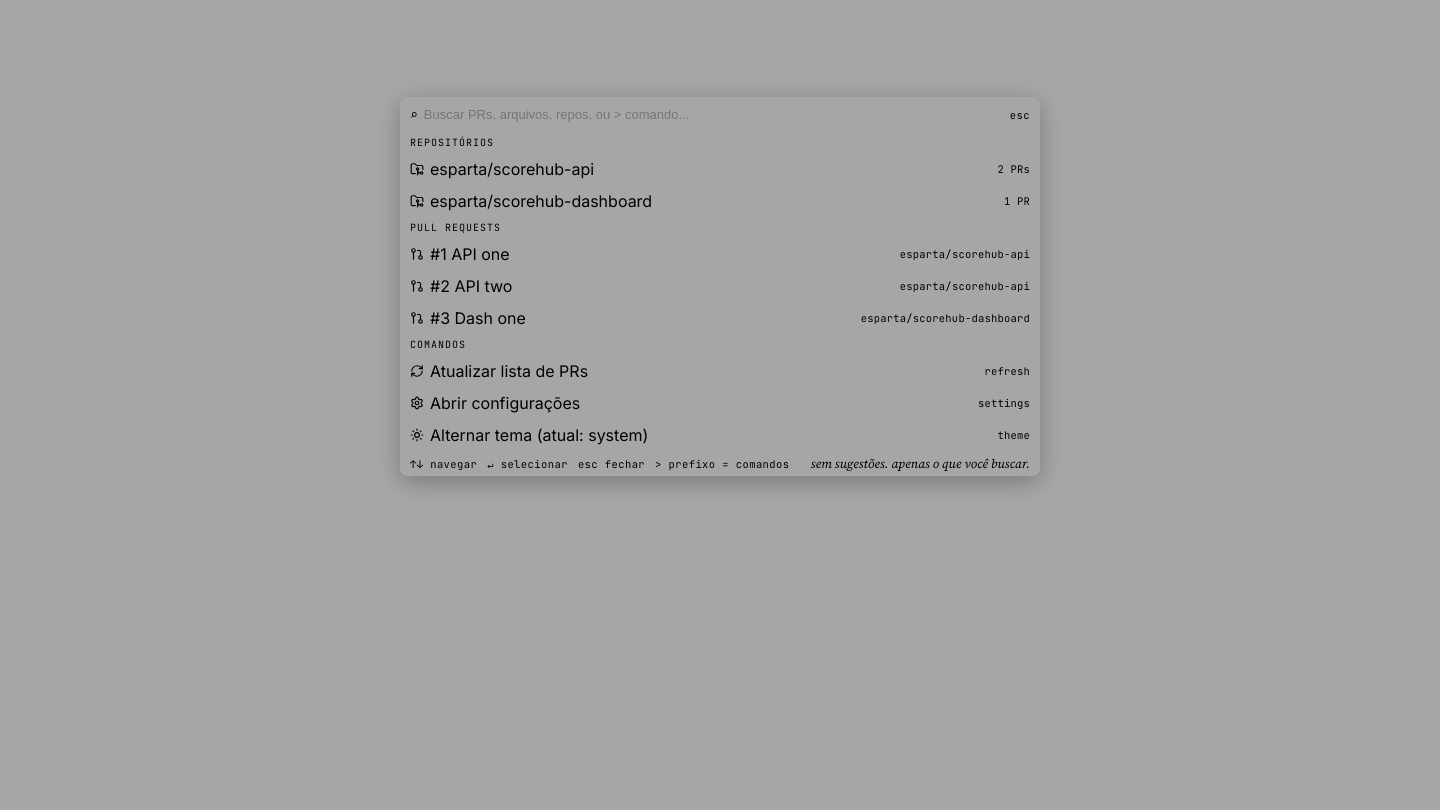
Test: CommandPalette repo scope › selecting a repo scopes the list to that repo's PRs
This screenshot has width=1440, height=810.
Click the option "esparta/scorehub-api 2 PRs" at coordinates (512, 169), box [400, 153, 1040, 185]
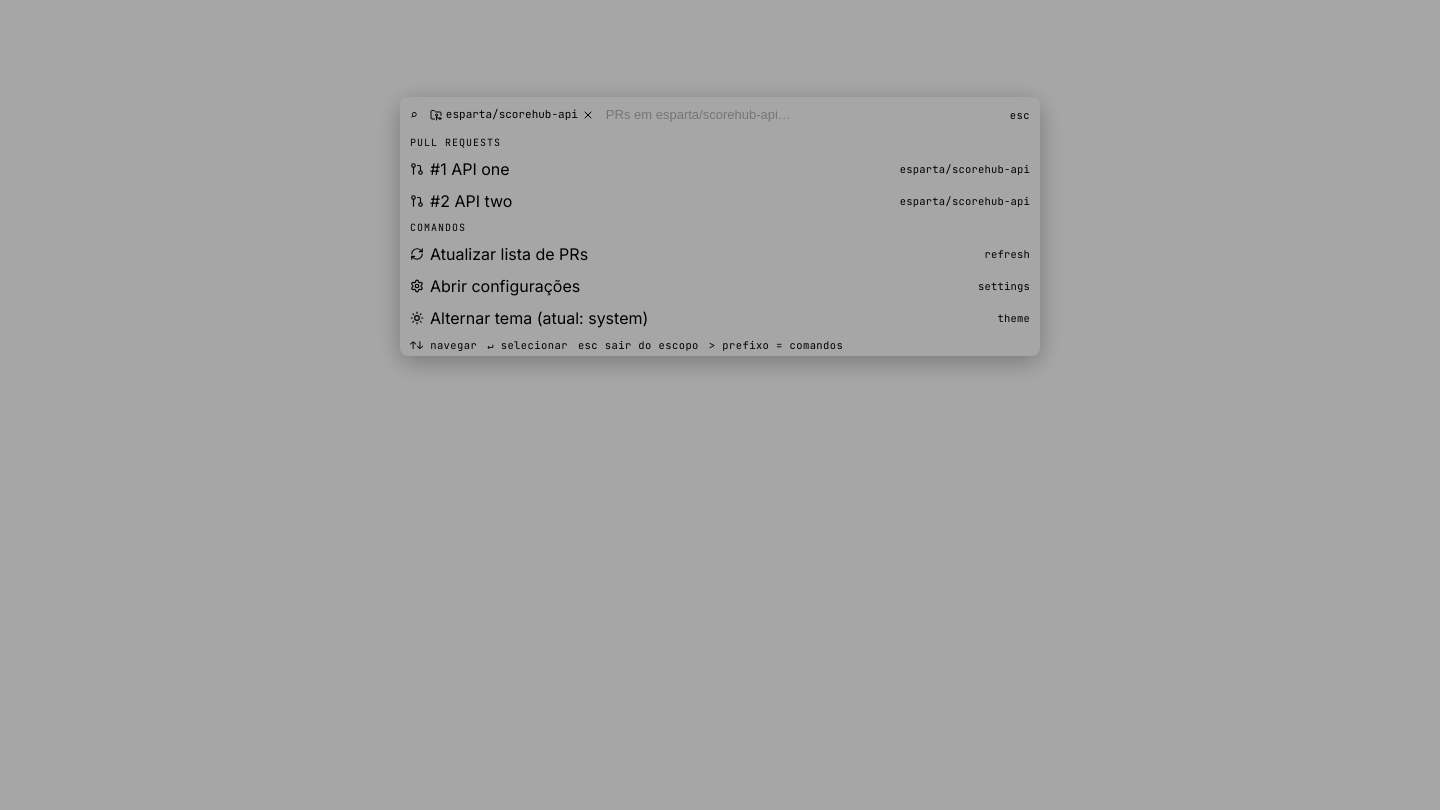
Expected: the button with aria-label "Sair do escopo esparta/scorehub-api" is shown, [424, 105, 600, 124]
Expected: the option "#3 Dash one" is gone
